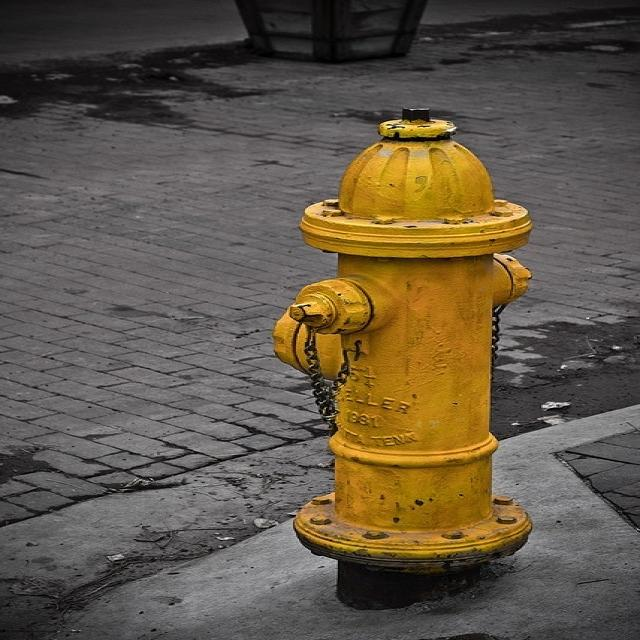fire_hydrant: (252, 94, 551, 596)
